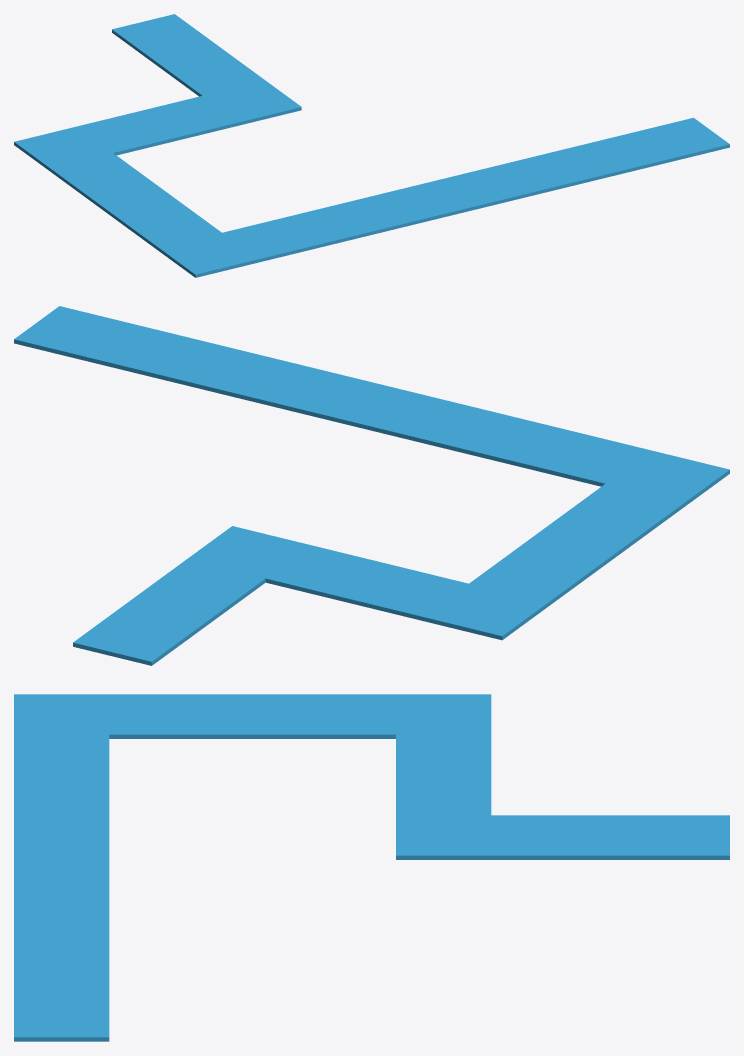
Rendered from Section_1A_6_River.fbx.
3 views of the same model, one above another, from view 1: azimuth 30°, elevation 25°; view 2: azimuth 150°, elevation 25°; view 3: azimuth 270°, elevation 25° (orthographic). The views are drawn at different scales.
Visible parts, largest first — view 1: Cube, Cube__1_, Cube__2_, Cube__13_; view 2: Cube, Cube__1_, Cube__2_, Cube__13_; view 3: Cube, Cube__1_, Cube__2_, Cube__13_.
Boxes of the visible parts, x1,y1,x2,y2 form: Cube: [159, 117, 729, 277]; Cube__1_: [14, 126, 221, 250]; Cube__2_: [77, 80, 301, 155]; Cube__13_: [112, 14, 264, 96]; Cube: [14, 306, 729, 506]; Cube__1_: [423, 483, 684, 640]; Cube__2_: [187, 526, 468, 620]; Cube__13_: [73, 559, 265, 665]; Cube: [14, 694, 109, 1041]; Cube__1_: [109, 694, 491, 738]; Cube__2_: [396, 734, 491, 859]; Cube__13_: [491, 815, 729, 859].
Size of the model in its own units: 8500 by 50 by 7500.
